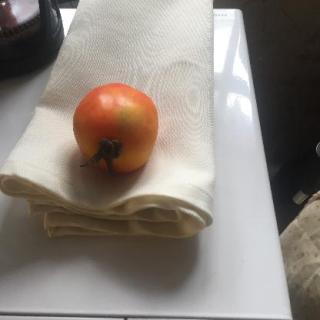Tomat: (66, 78, 170, 182)
